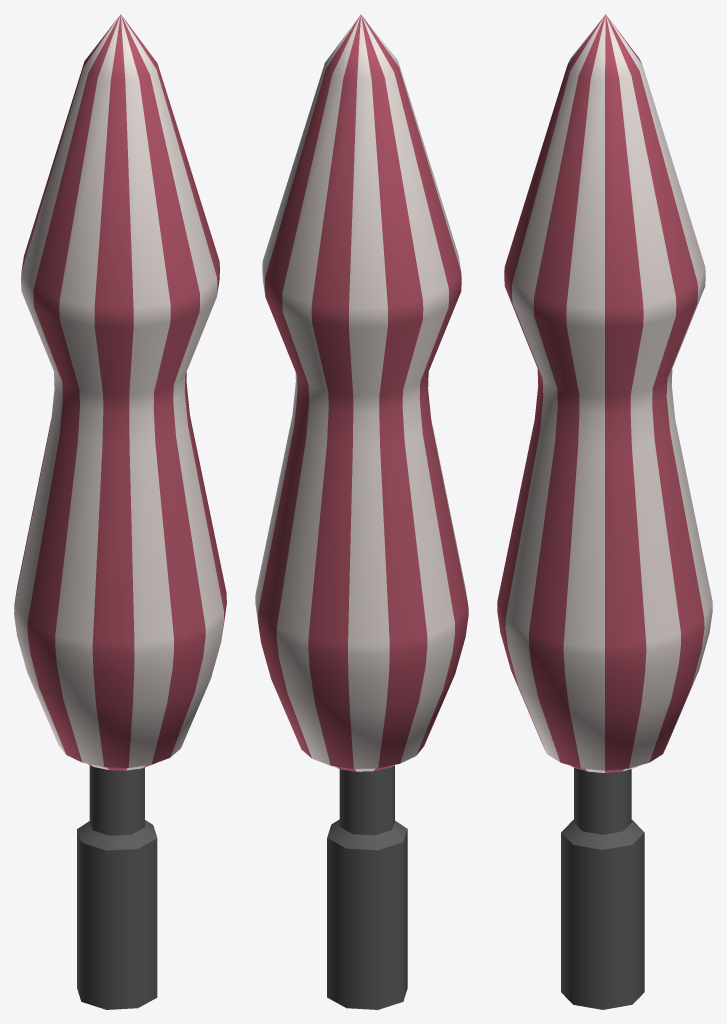
The model's file is umbrella_closed.fbx.
3 views of the same model, side by side, from view 1: azimuth 30°, elevation 25°; view 2: azimuth 150°, elevation 25°; view 3: azimuth 270°, elevation 25° (orthographic).
Parts seen in each view (by area): view 1: umbrella_closed; view 2: umbrella_closed; view 3: umbrella_closed.
Part boxes in pixels (x1,y1,x2,y2): umbrella_closed: (14,14,226,1009); umbrella_closed: (255,14,468,1009); umbrella_closed: (497,14,712,1009).
Size of the model in its own units: 78.86 by 78.86 by 396.
